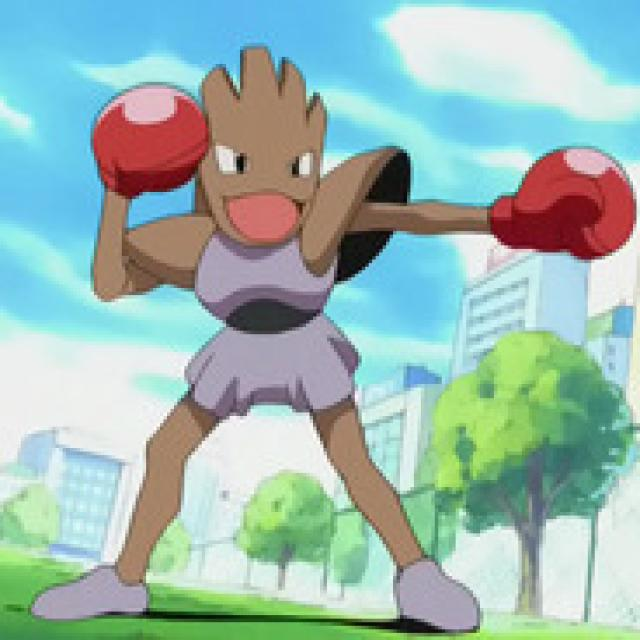Hitmonchan: (90, 45, 487, 635)
